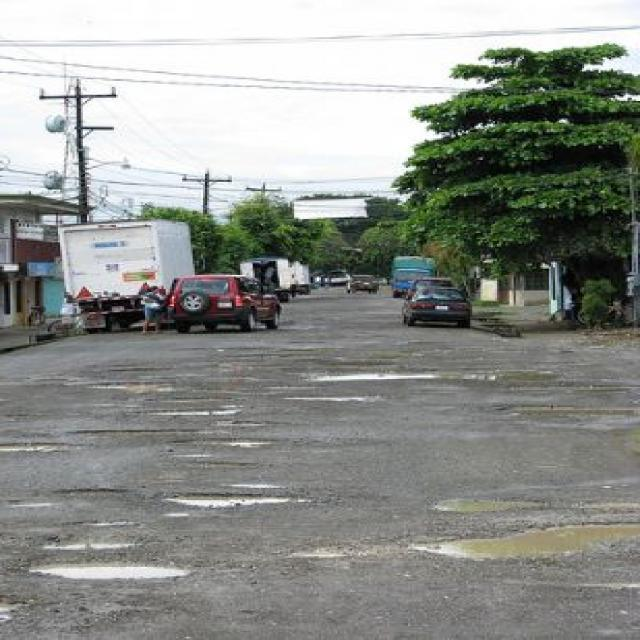pothole: (408, 520, 640, 564), (25, 552, 201, 582)
